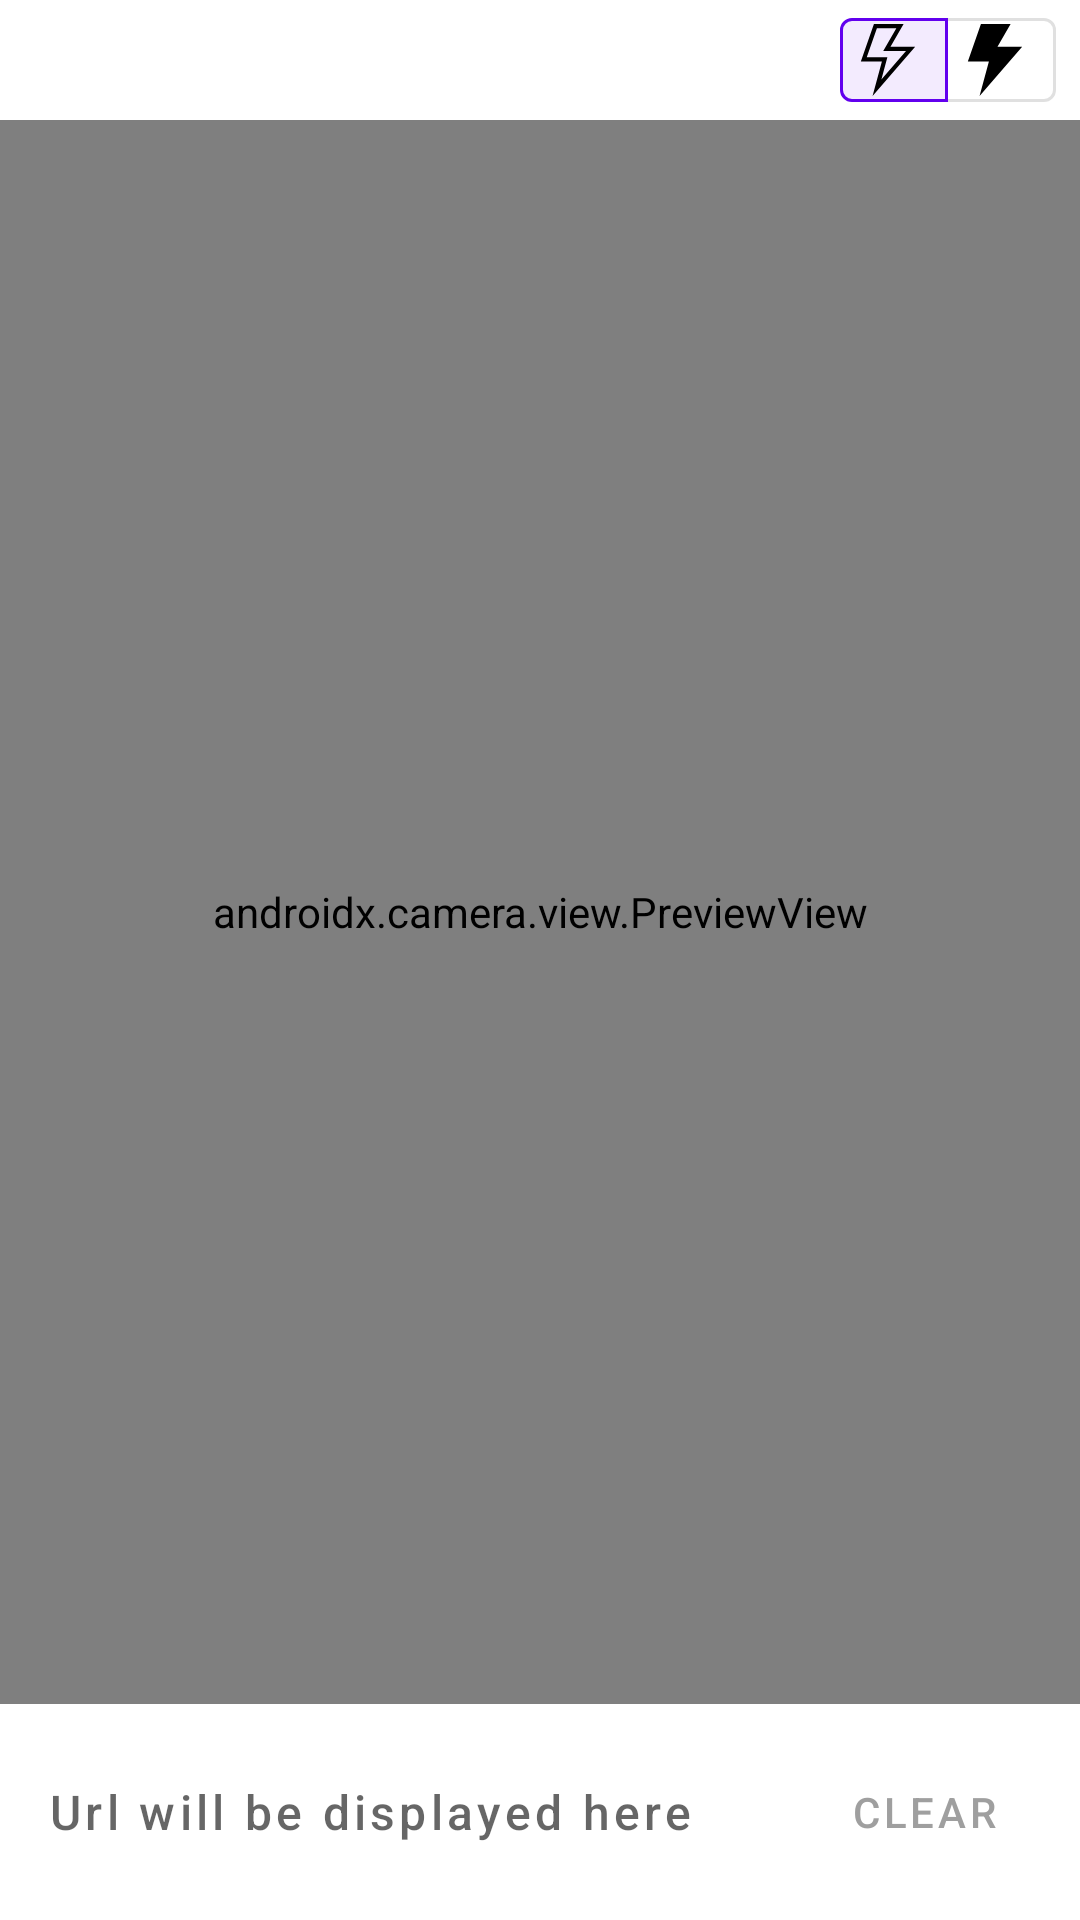

Icon bounding boxes for this 1080w x 1920h phone screenshot, format (x1,y1,x2,y2):
flash off: (840,18,948,102)
flash on: (968,24,1022,96)
